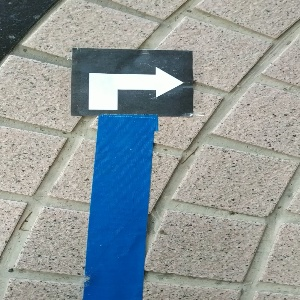right: (72, 47, 194, 119)
